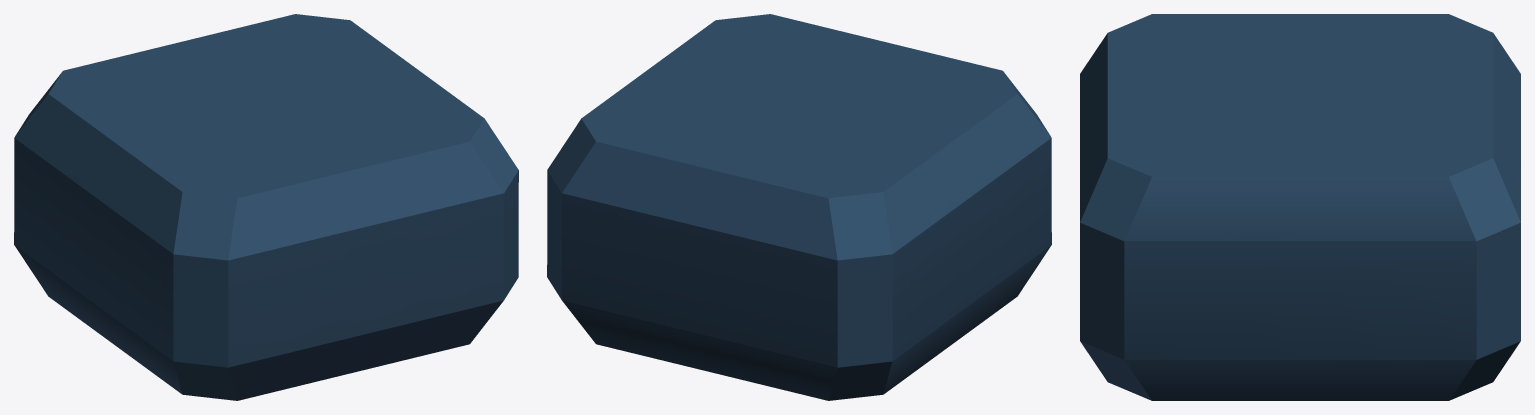
The model's file is floor_divider_hub.fbx.
The picture shows the model from 3 angles, left to right: view 1: azimuth 30°, elevation 25°; view 2: azimuth 150°, elevation 25°; view 3: azimuth 270°, elevation 25°; orthographic projection. The views are drawn at different scales.
Parts seen in each view (by area): view 1: floor_divider_hub; view 2: floor_divider_hub; view 3: floor_divider_hub.
Boxes of the visible parts, x1,y1,x2,y2 form: floor_divider_hub: [14, 14, 518, 400]; floor_divider_hub: [547, 14, 1051, 400]; floor_divider_hub: [1080, 14, 1520, 400].
Size of the model in its own units: 59.77 by 33.52 by 59.77.
